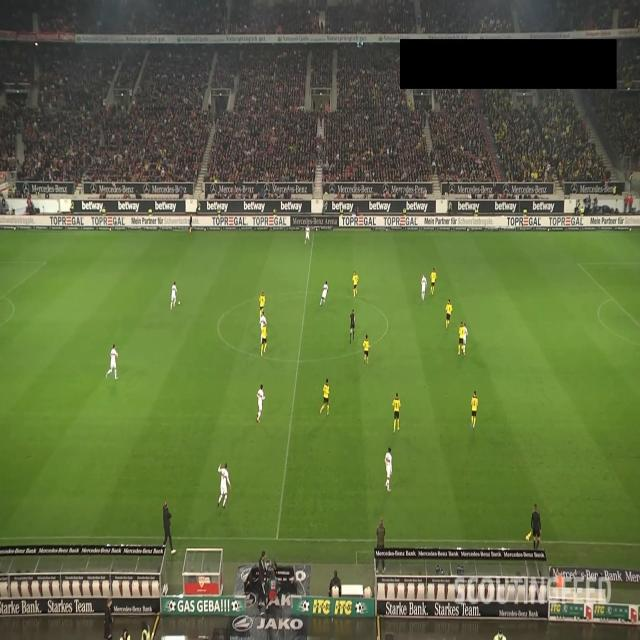ball: (178, 300, 180, 306)
